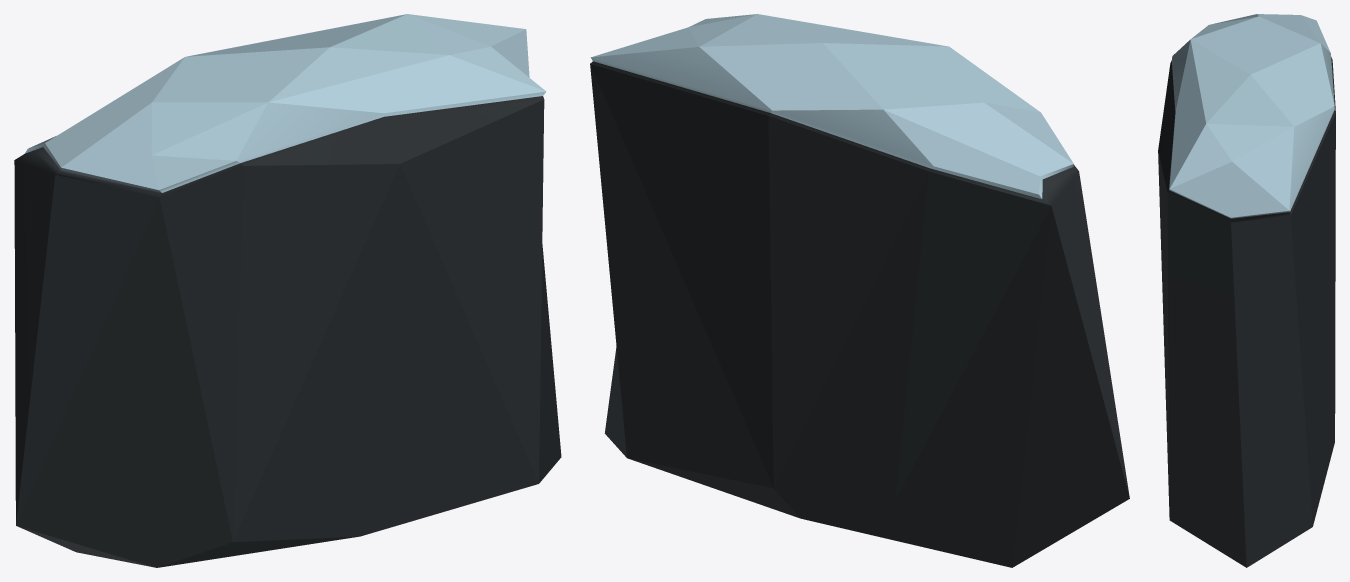
Rendered from Geo_Cliff02.fbx.
3 renders of one model, left to right at view 1: azimuth 30°, elevation 25°; view 2: azimuth 150°, elevation 25°; view 3: azimuth 270°, elevation 25°, orthographic. The views are drawn at different scales.
Visible parts, largest first — view 1: polySurface5; view 2: polySurface5; view 3: polySurface5.
Part boxes in pixels (left/top/right/bottom): polySurface5: left=14, top=14, right=561, bottom=567; polySurface5: left=590, top=14, right=1129, bottom=567; polySurface5: left=1158, top=14, right=1335, bottom=567.
Size of the model in its own units: 1015 by 850 by 334.
